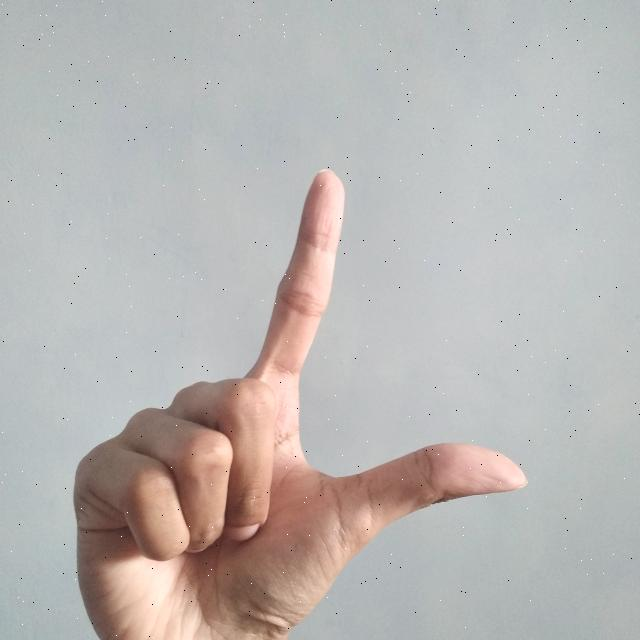L: (69, 162, 532, 640)
